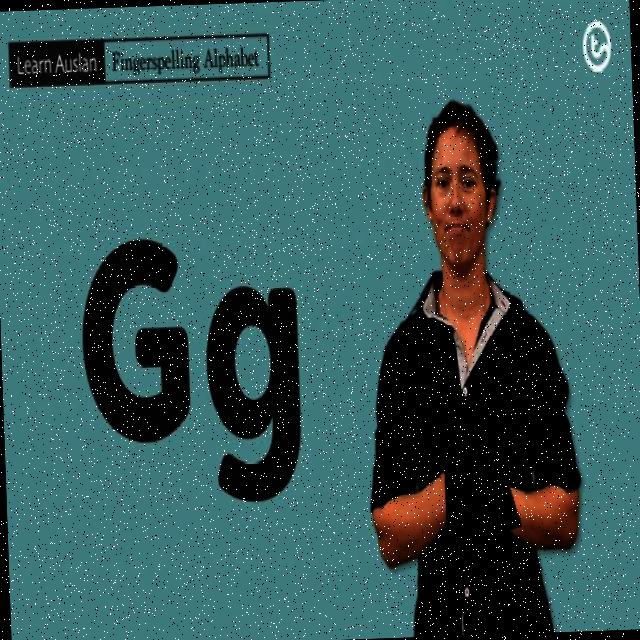G: (435, 403, 515, 543)
